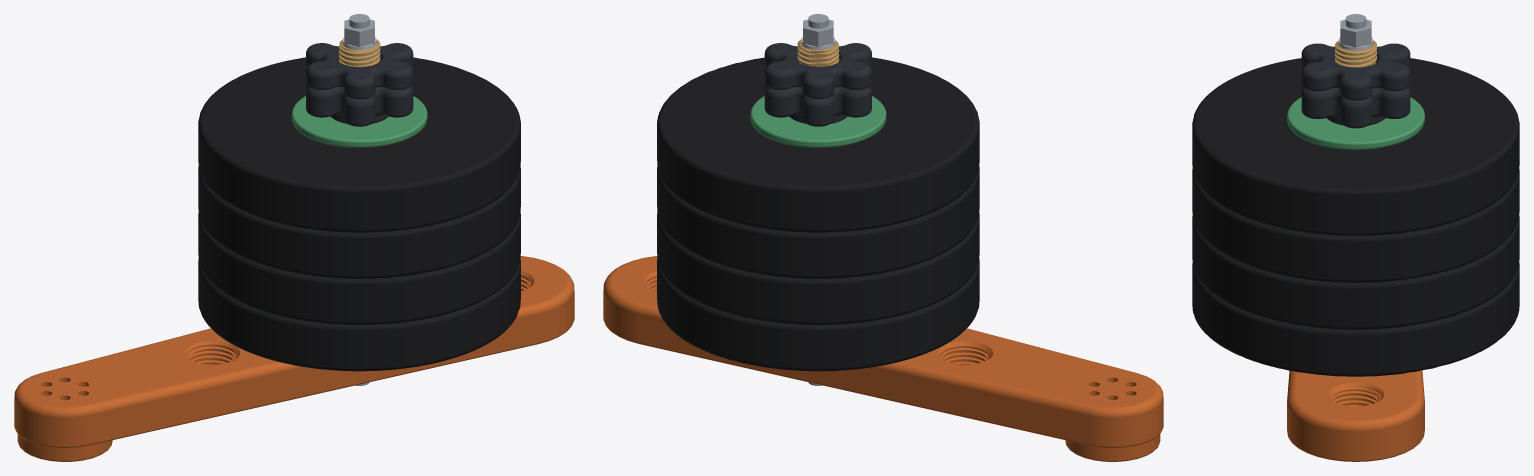
The model's file is load_arm_assembly_ak70.glb.
3 views of the same model, side by side, from view 1: azimuth 30°, elevation 25°; view 2: azimuth 150°, elevation 25°; view 3: azimuth 270°, elevation 25° (orthographic).
Visible parts, largest first — view 1: weight_plates/weight_plate (×4), load_arm_ak70, lock_knob, clamp_plate, star_knob, load_pin, m12_hardware/m12_nut; view 2: weight_plates/weight_plate (×4), load_arm_ak70, lock_knob, clamp_plate, star_knob, load_pin, m12_hardware/m12_nut; view 3: weight_plates/weight_plate (×4), load_arm_ak70, lock_knob, clamp_plate, star_knob, load_pin, m12_hardware/m12_nut.
Part boxes in pixels (bbox=[...]): weight_plates/weight_plate (×4): bbox=[198, 57, 520, 371]; load_arm_ak70: bbox=[14, 256, 574, 461]; lock_knob: bbox=[306, 43, 413, 99]; clamp_plate: bbox=[291, 96, 427, 147]; star_knob: bbox=[306, 82, 413, 126]; load_pin: bbox=[339, 39, 380, 66]; m12_hardware/m12_nut: bbox=[344, 19, 374, 47]; weight_plates/weight_plate (×4): bbox=[657, 57, 979, 371]; load_arm_ak70: bbox=[603, 256, 1163, 461]; lock_knob: bbox=[764, 43, 871, 99]; clamp_plate: bbox=[750, 96, 886, 147]; star_knob: bbox=[764, 82, 871, 126]; load_pin: bbox=[797, 39, 839, 66]; m12_hardware/m12_nut: bbox=[803, 19, 833, 47]; weight_plates/weight_plate (×4): bbox=[1192, 58, 1519, 376]; load_arm_ak70: bbox=[1287, 370, 1424, 461]; lock_knob: bbox=[1301, 43, 1410, 100]; clamp_plate: bbox=[1287, 97, 1424, 149]; star_knob: bbox=[1301, 84, 1410, 128]; load_pin: bbox=[1335, 40, 1376, 67]; m12_hardware/m12_nut: bbox=[1340, 19, 1371, 47].
Bounding box in the file's own units: 0.37 × 0.236 × 0.1899.
